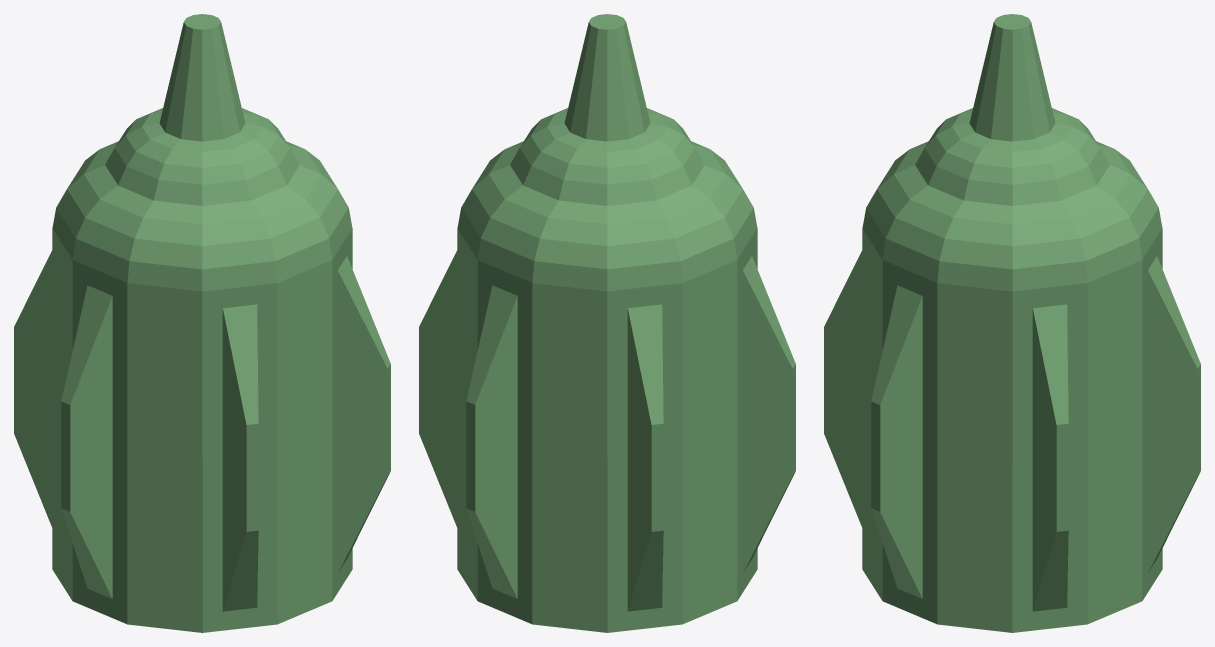
Rendered from Figure_1.fbx.
3 renders of one model, left to right at view 1: azimuth 30°, elevation 25°; view 2: azimuth 150°, elevation 25°; view 3: azimuth 270°, elevation 25°, orthographic.
Parts seen in each view (by area): view 1: Figure_1; view 2: Figure_1; view 3: Figure_1.
Part boxes in pixels (bbox=[...]): Figure_1: bbox=[14, 14, 390, 632]; Figure_1: bbox=[419, 14, 795, 632]; Figure_1: bbox=[824, 14, 1200, 632].
Size of the model in its own units: 0.8523 by 1.37 by 0.8523.
